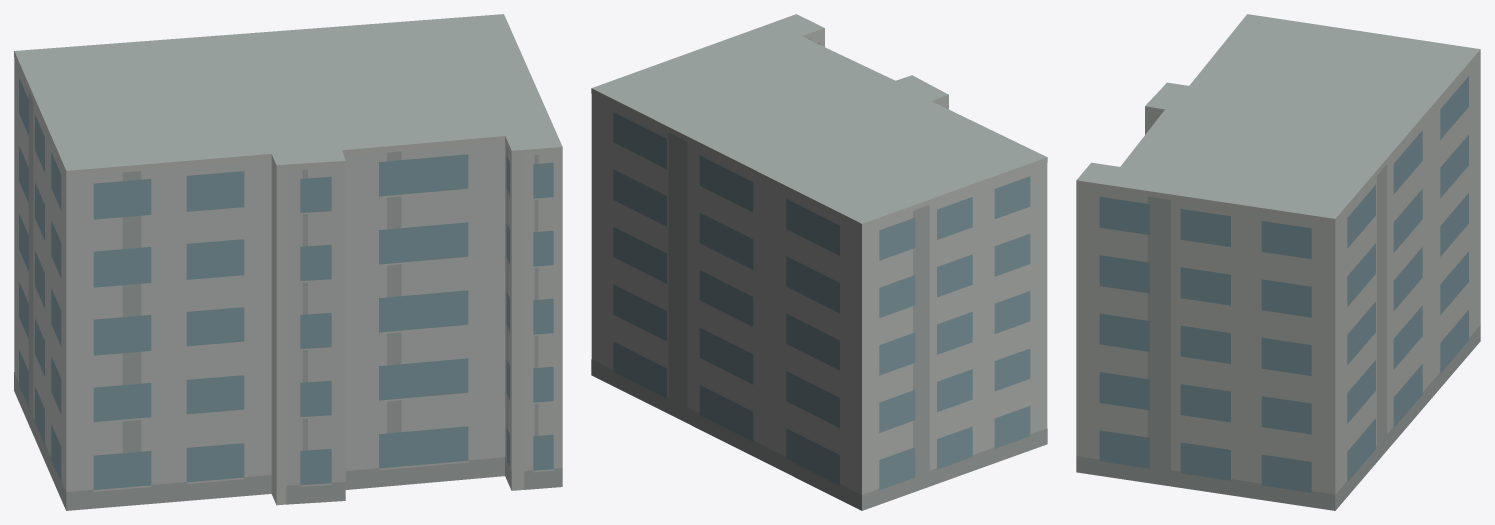
The model's file is survey-upis-32888519.glb.
3 renders of one model, left to right at view 1: azimuth 30°, elevation 25°; view 2: azimuth 150°, elevation 25°; view 3: azimuth 270°, elevation 25°, orthographic. The views are drawn at different scales.
Parts seen in each view (by area): view 1: survey-upis-32888519.tmp; view 2: survey-upis-32888519.tmp; view 3: survey-upis-32888519.tmp.
Boxes of the visible parts, left/top/right/bottom form: survey-upis-32888519.tmp: left=14, top=14, right=562, bottom=510; survey-upis-32888519.tmp: left=591, top=14, right=1047, bottom=510; survey-upis-32888519.tmp: left=1076, top=14, right=1480, bottom=510.
Bounding box in the file's own units: 19.87 × 13.2 × 16.57.
